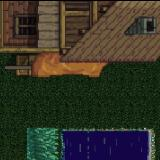Interaction: (55, 114, 160, 137), (48, 120, 68, 160), (143, 118, 160, 160)
Obstacle: (0, 0, 160, 91)
Slow: (64, 131, 150, 160), (27, 127, 59, 160)
